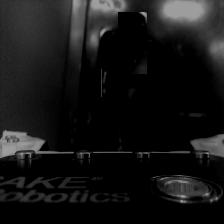Door Handle: (109, 20, 155, 66)
Lock: (101, 69, 108, 97)
